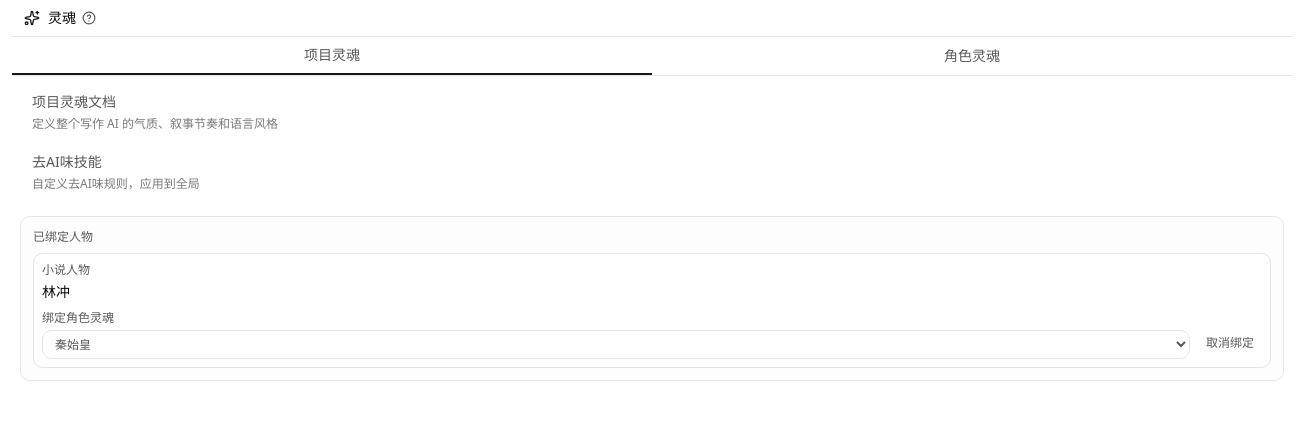
Test case: SoulSidebarPanel › 取消绑定失败（非 Error）→ 兜底错误消息
The width and height of the screenshot is (1304, 422).
Expected: the text "林冲" is shown, [42,282,70,301]
Click the button "取消绑定": (1230, 343) [1198,327,1262,359]
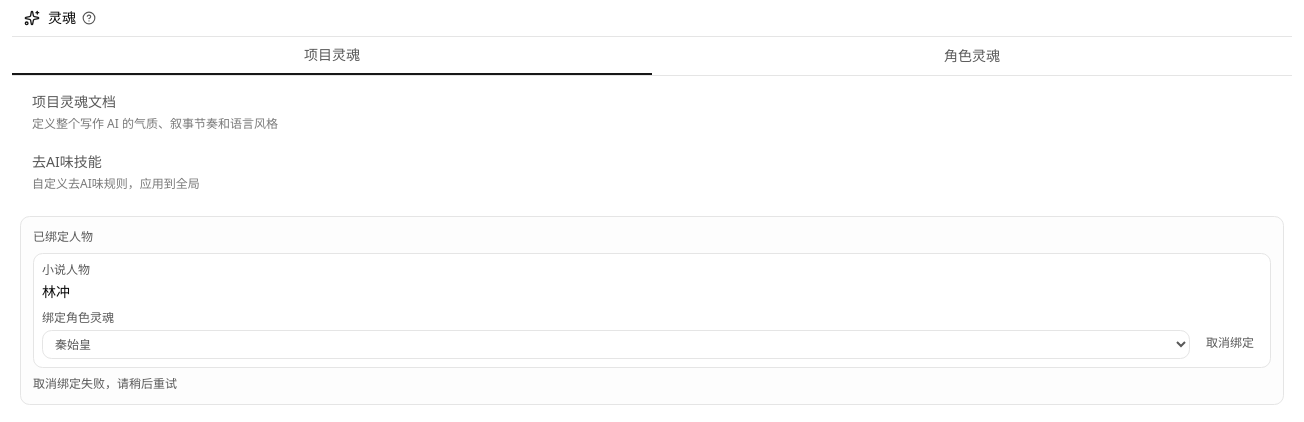
Now the text "取消绑定失败，请稍后重试" is shown, box [33,375,177,392]
